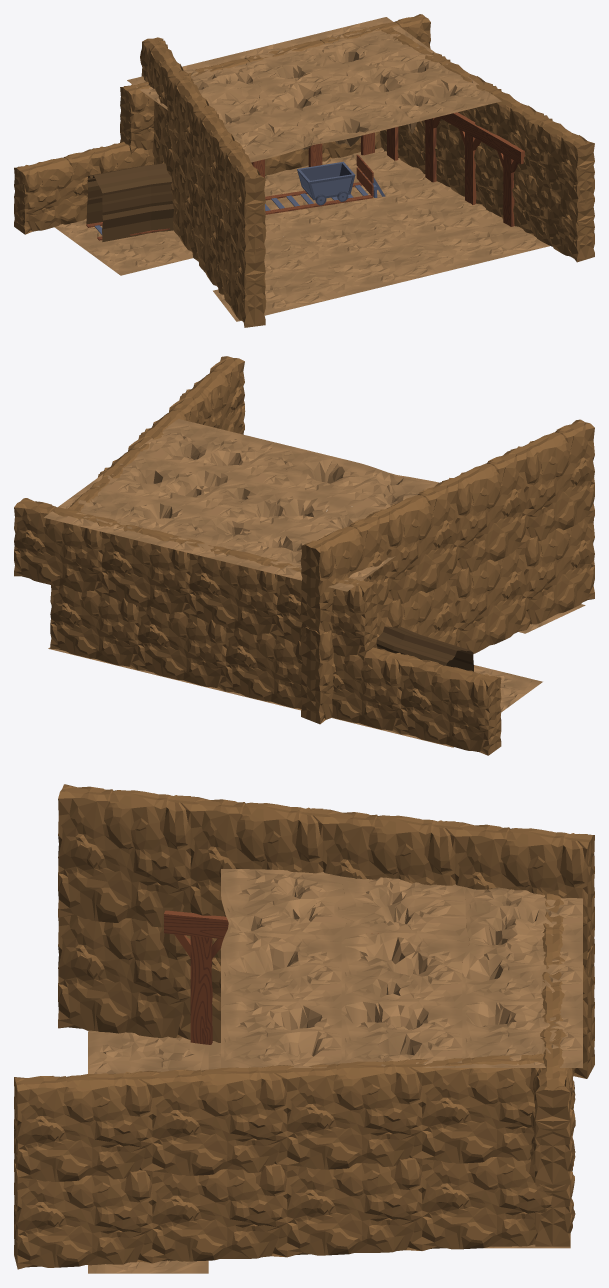
File: CaveEntrance.fbx
3 views of the same model, one above another, from view 1: azimuth 30°, elevation 25°; view 2: azimuth 150°, elevation 25°; view 3: azimuth 270°, elevation 25° (orthographic). The views are drawn at different scales.
Visible parts, largest first — view 1: Ground.001, Top, rock.ver04.005, rock.ver04.002, rock.ver04.003, rock.ver04, rock.ver04.004, rock.ver04.006, Cube, rock.ver04.001, Cube.003, Cube.001 (+1 smaller); view 2: Top, rock.ver04, rock.ver04.005, rock.ver04.001, rock.ver04.004, rock.ver04.003, rock.ver04.006, Ground.001; view 3: Top, rock.ver04.003, rock.ver04.002, rock.ver04.005, rock.ver04.004, rock.ver04.001, Ground.001, Cube, rock.ver04.
Part boxes in pixels (x1,y1,x2,y2): Ground.001: [54, 147, 549, 321]; Top: [127, 17, 501, 162]; rock.ver04.005: [140, 37, 266, 256]; rock.ver04.002: [380, 120, 594, 262]; rock.ver04.003: [381, 27, 594, 207]; rock.ver04: [14, 131, 381, 234]; rock.ver04.004: [152, 133, 266, 327]; rock.ver04.006: [86, 163, 173, 241]; Cube: [251, 112, 524, 226]; rock.ver04.001: [120, 14, 430, 153]; Cube.003: [297, 161, 355, 205]; Cube.001: [86, 182, 373, 240]; Top: [44, 419, 438, 591]; rock.ver04: [50, 585, 501, 755]; rock.ver04.005: [300, 419, 594, 641]; rock.ver04.001: [14, 498, 377, 661]; rock.ver04.004: [300, 516, 594, 724]; rock.ver04.003: [66, 356, 245, 511]; rock.ver04.006: [376, 626, 473, 671]; Ground.001: [48, 523, 585, 747]; Top: [221, 869, 582, 1067]; rock.ver04.003: [14, 1053, 544, 1183]; rock.ver04.002: [14, 1157, 552, 1269]; rock.ver04.005: [58, 784, 594, 968]; rock.ver04.004: [58, 914, 594, 1078]; rock.ver04.001: [530, 893, 575, 1184]; Ground.001: [88, 1030, 570, 1273]; Cube: [164, 910, 462, 1044]; rock.ver04: [534, 1068, 575, 1246].
Size of the model in its own units: 3689 by 2890 by 1309.
9 materials, 2 textured.
